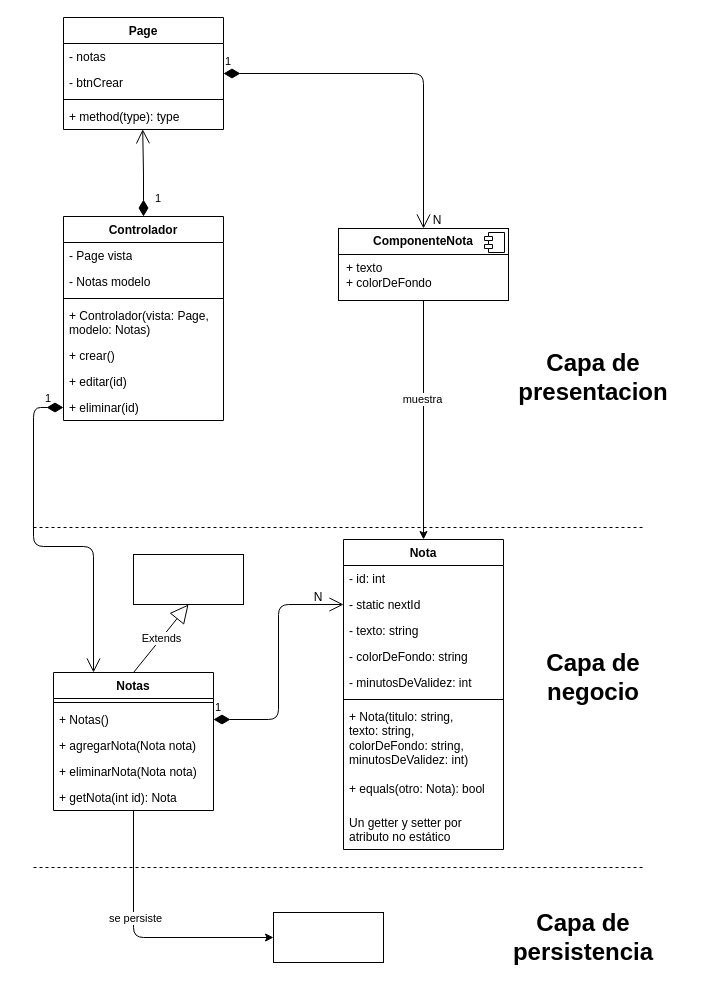
Image size: 701x1000. Some labels were removed from this diagram. The centre of each missing label's shape, as x and y in pixels:
Array[Nota]: the point at 188,579
LocalStorage: the point at 328,937
